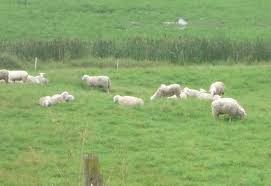sheep: (209, 95, 247, 122), (152, 80, 185, 100), (80, 74, 111, 95), (111, 93, 148, 110), (209, 79, 231, 102), (3, 66, 32, 82), (189, 85, 212, 102), (39, 91, 57, 109), (31, 70, 48, 89), (57, 88, 73, 104)
